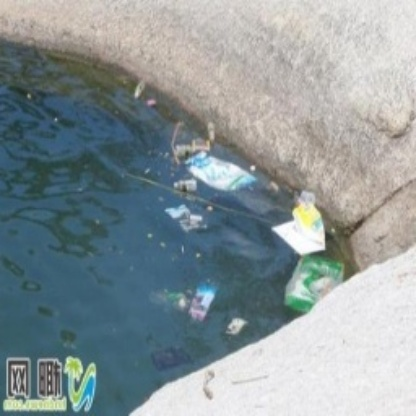plastic-bag: (188, 151, 260, 194)
